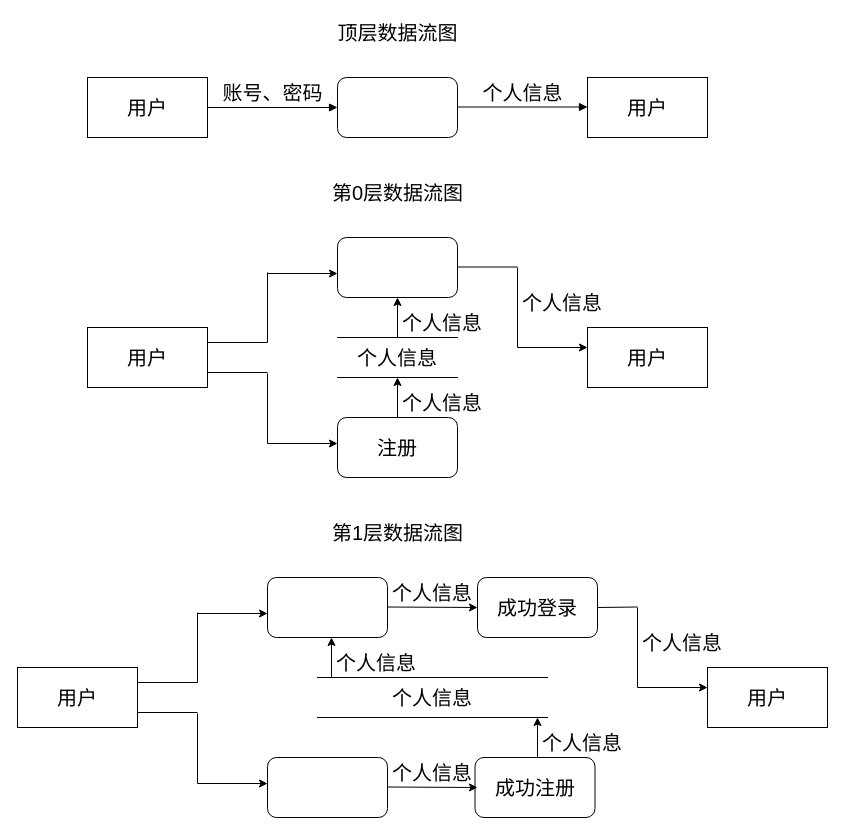
Image size: 845x835. Some labels were removed from this diagram. Each missing label, with the centre of its shape:
"注册校验" goes at point 327,787.
"登录" goes at point 397,267.
"登录子系统" goes at point 397,107.
"验证身份" goes at point 327,607.
